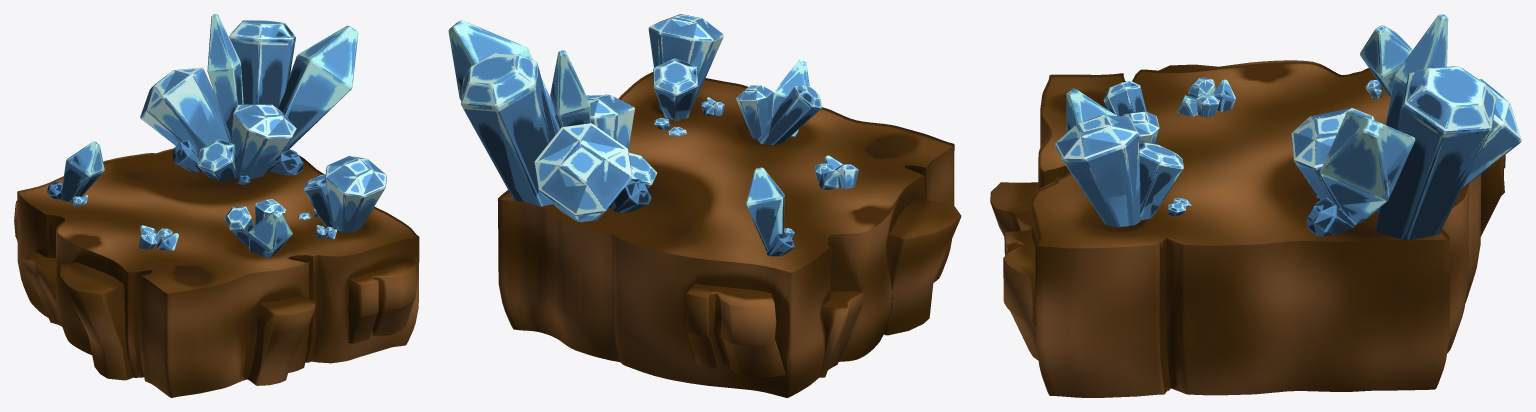
File: land-C.glb
3 renders of one model, left to right at view 1: azimuth 30°, elevation 25°; view 2: azimuth 150°, elevation 25°; view 3: azimuth 270°, elevation 25°, orthographic. The views are drawn at different scales.
Visible parts, largest first — view 1: Land; view 2: Land; view 3: Land.
Boxes of the visible parts, <box> form: Land: <box>14,14,419,397</box>; Land: <box>448,14,961,397</box>; Land: <box>990,14,1521,397</box>.
Size of the model in its own units: 10.39 by 6.83 by 9.54.
1 material, 1 textured.
